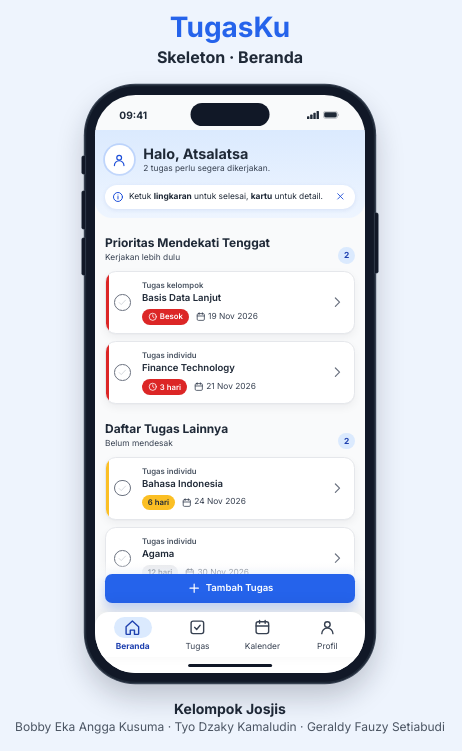
Test: App › gagal menyimpan status selesai menampilkan pesan dan status tidak berubah
This screenshot has width=462, height=751.
Click the button named "Tandai selesai: Agama".
click(123, 558)  # box [108,544,137,573]
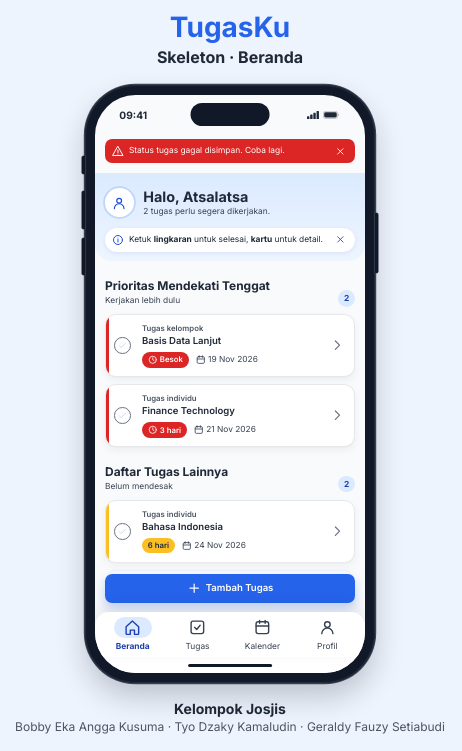
expect the text "Status tugas gagal disimpan. Coba lagi." is shown: met, box [129,145,285,155]
